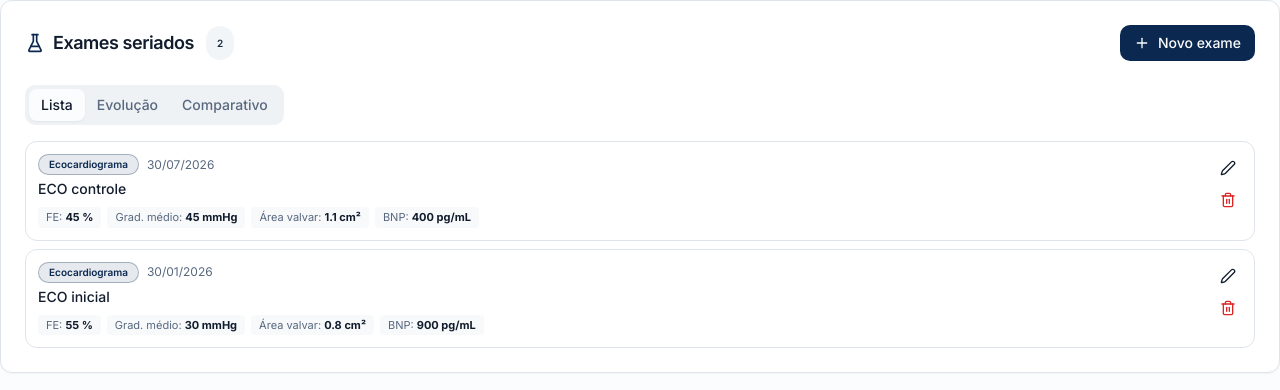
CaseExams › excluir faz soft-delete e registra auditoria
Check: the text "ECO controle" is shown, box [38,180,126,197]
Click the 3rd button. click: click(1228, 200)
box: [1214,186,1242,214]
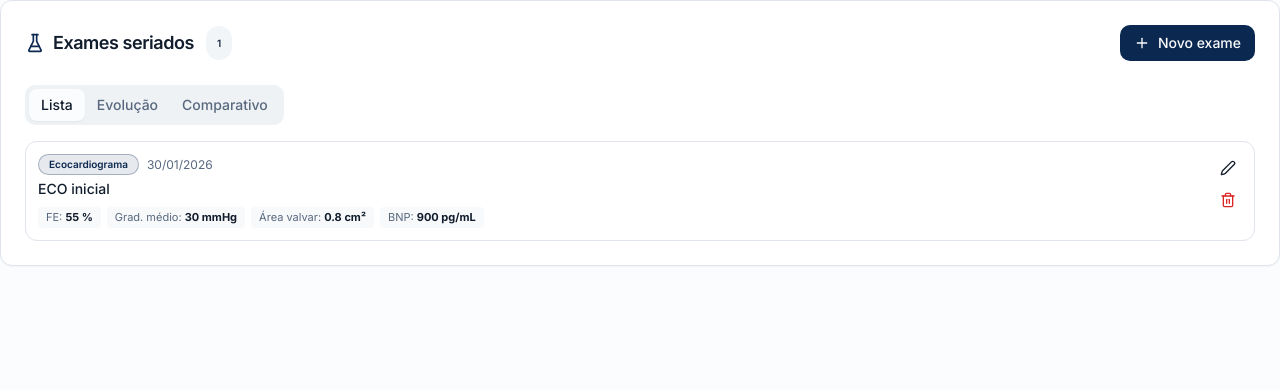
Check: the text "ECO controle" is gone
